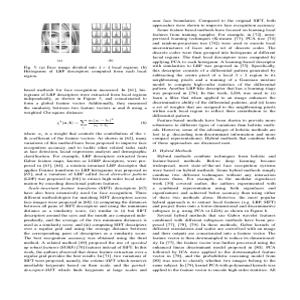image: (36, 19, 136, 61)
text: (151, 16, 280, 274), (20, 64, 150, 276)
